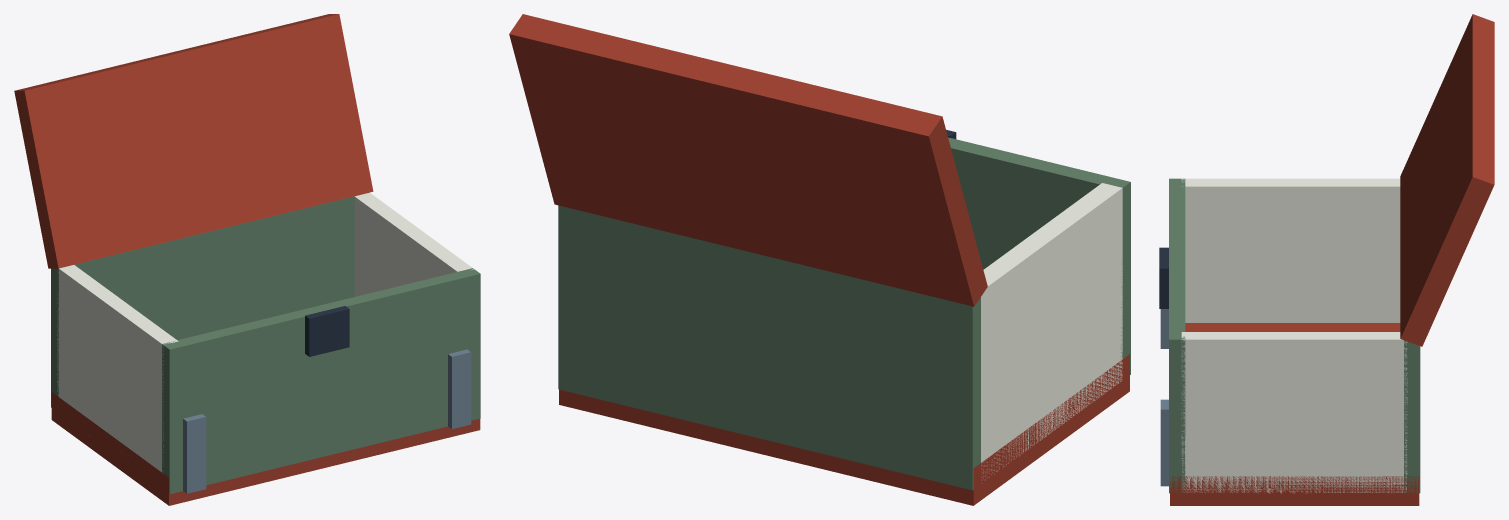
The picture shows the model from 3 angles, left to right: view 1: azimuth 30°, elevation 25°; view 2: azimuth 150°, elevation 25°; view 3: azimuth 270°, elevation 25°; orthographic projection. The views are drawn at different scales.
Parts seen in each view (by area): view 1: raised lid, panel 0.5, panel -0.5, end panel -0.77, floor, end panel 0.77, clasp, corner 0.69, corner -0.69; view 2: raised lid, panel -0.5, end panel -0.77, floor, panel 0.5; view 3: end panel 0.77, end panel -0.77, raised lid, floor, panel 0.5, panel -0.5, corner 0.69, clasp.
Part boxes in pixels (x1,y1,x2,y2): raised lid: [14, 14, 373, 268]; panel 0.5: [162, 268, 480, 494]; panel -0.5: [51, 195, 356, 407]; end panel -0.77: [57, 265, 178, 472]; floor: [51, 392, 480, 505]; end panel 0.77: [354, 192, 473, 296]; clasp: [305, 306, 349, 356]; corner 0.69: [448, 349, 471, 428]; corner -0.69: [183, 414, 206, 493]; raised lid: [509, 14, 987, 306]; panel -0.5: [558, 205, 980, 490]; end panel -0.77: [981, 183, 1122, 483]; floor: [559, 354, 1129, 505]; panel 0.5: [948, 137, 1130, 377]; end panel 0.77: [1181, 332, 1407, 493]; end panel -0.77: [1181, 178, 1400, 322]; raised lid: [1400, 14, 1494, 346]; floor: [1170, 323, 1419, 505]; panel 0.5: [1169, 178, 1185, 493]; panel -0.5: [1404, 340, 1420, 493]; corner 0.69: [1160, 399, 1168, 486]; clasp: [1159, 247, 1168, 308].
Bounding box in the file's own units: 1.64 × 1.55 × 1.42.
